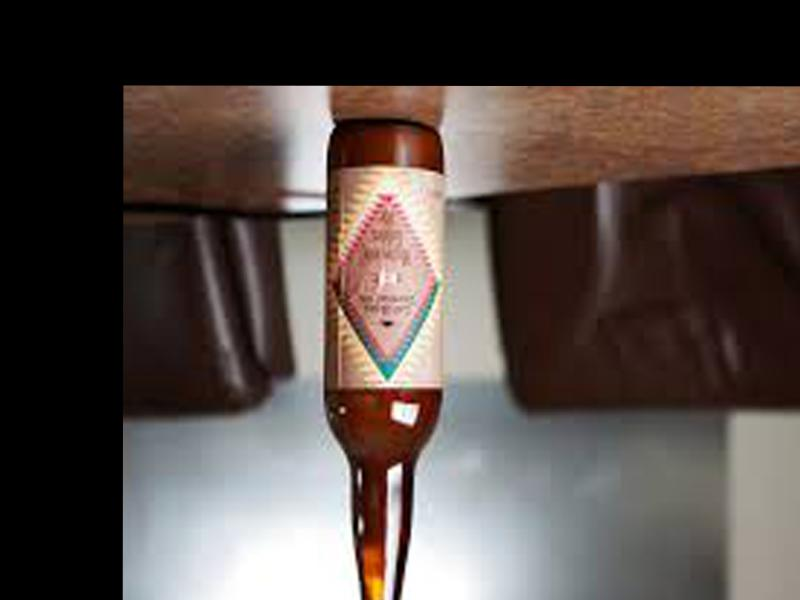Beer: (325, 121, 439, 600)
